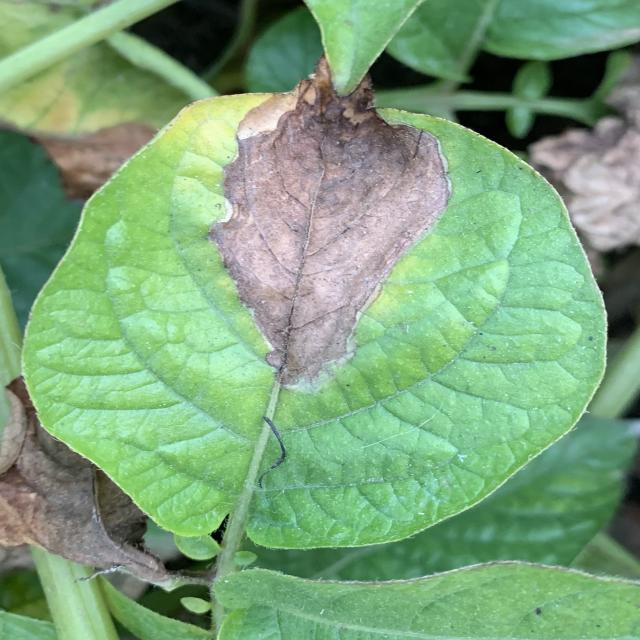lateblight: (210, 59, 450, 385)
